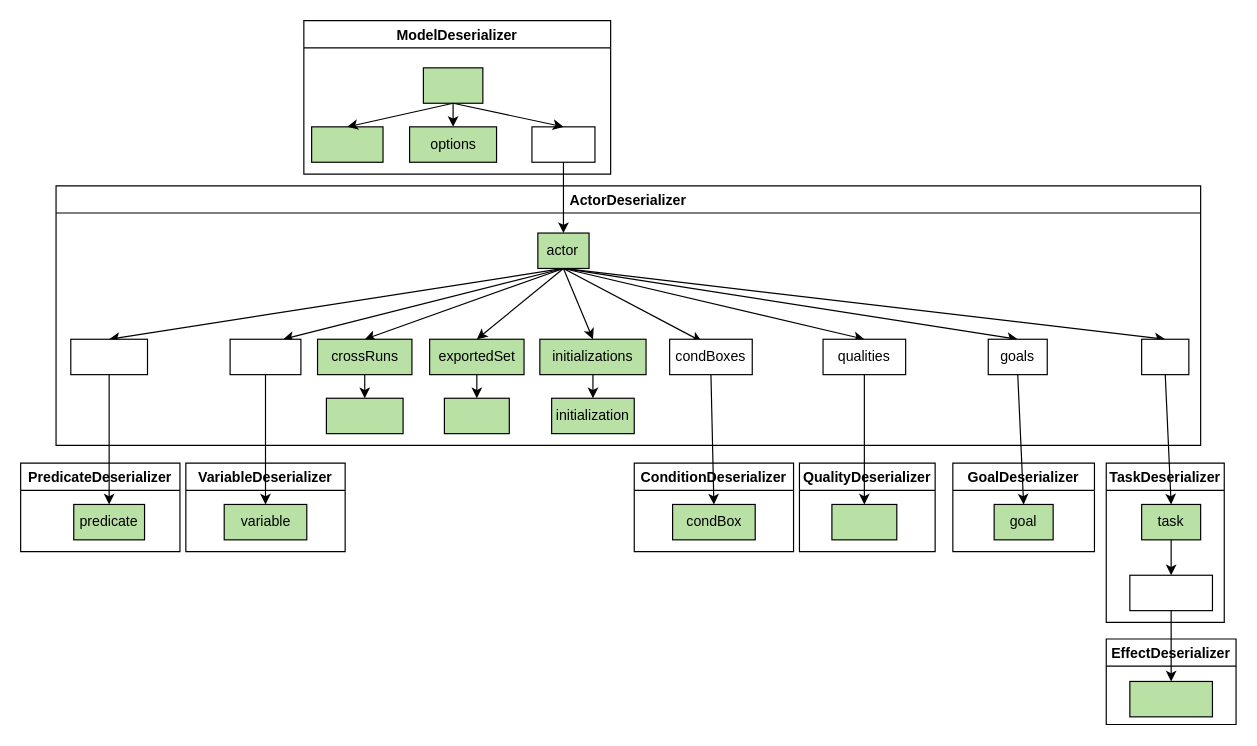
Image size: 1257x746. Some labels were removed from this diagram. The centre of each missing label's shape, as x and y in pixels:
"actors" belongs at point (563, 144).
"crossRun" belongs at point (364, 415).
"effect" belongs at point (1170, 698).
"effectGroup" belongs at point (1170, 592).
"export" belongs at point (476, 415).
"header" belongs at point (346, 144).
"model" belongs at point (452, 85).
"predicates" belongs at point (109, 356).
"quality" belongs at point (864, 521).
"tasks" belongs at point (1164, 356).
"variables" belongs at point (265, 356).
